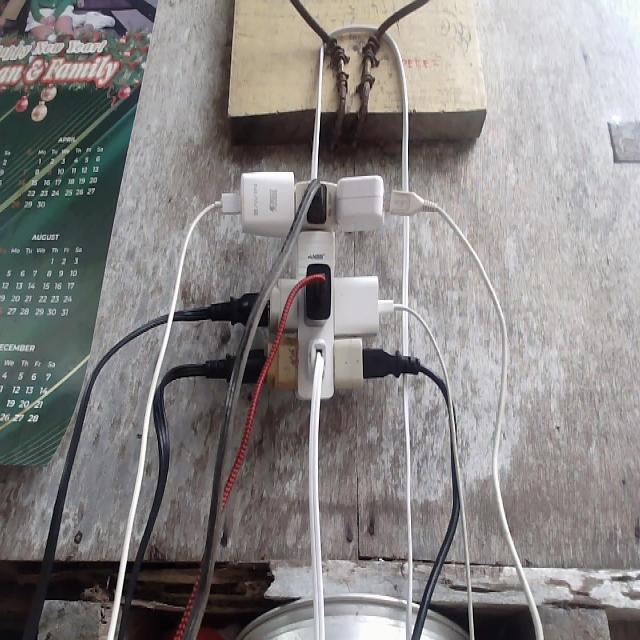-: (206, 169, 424, 399)
